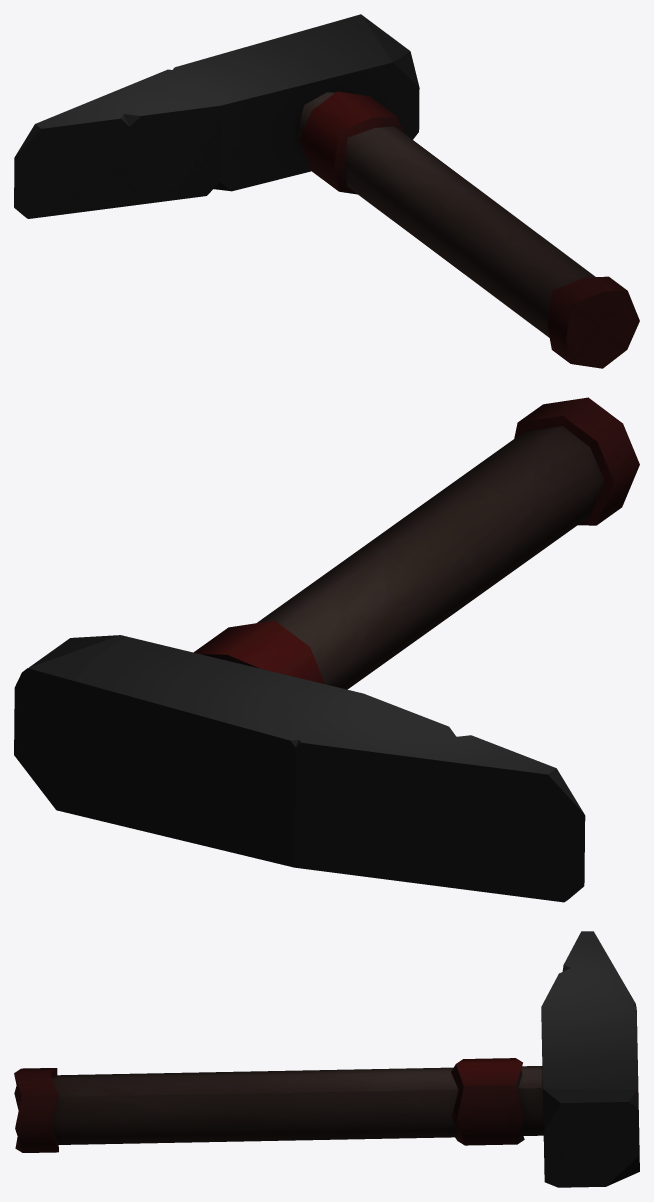
Rendered from hatchet.obj.
3 renders of one model, top to bottom at view 1: azimuth 30°, elevation 25°; view 2: azimuth 150°, elevation 25°; view 3: azimuth 270°, elevation 25°, orthographic. The views are drawn at different scales.
Visible parts, largest first — view 1: Cube.002; view 2: Cube.002; view 3: Cube.002.
Boxes of the visible parts, <box> form: Cube.002: <box>14,14,639,368</box>; Cube.002: <box>14,397,639,902</box>; Cube.002: <box>14,931,639,1187</box>.
Bounding box in the file's own units: 16.29 × 4.08 × 23.8.
